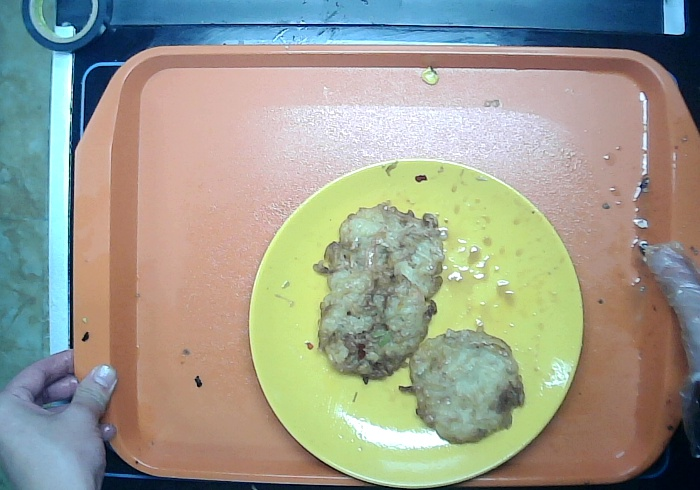HZYJPL-Huang_Se_Yuan_Pan: (245, 141, 588, 490)
